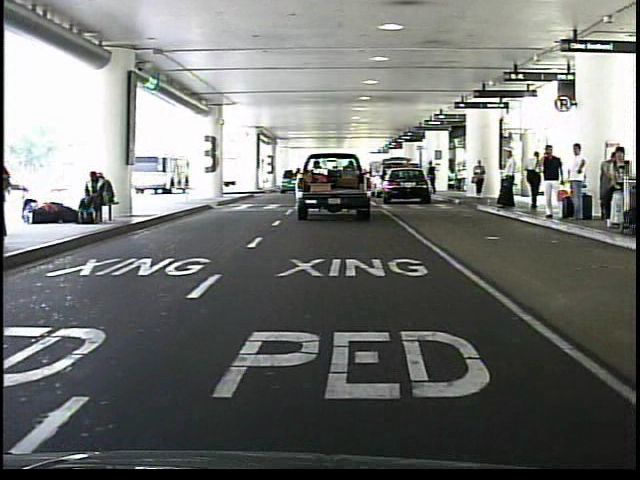person: (566, 138, 593, 230), (537, 142, 566, 223), (495, 148, 521, 213), (522, 146, 545, 213), (471, 159, 488, 202), (427, 160, 439, 198)
